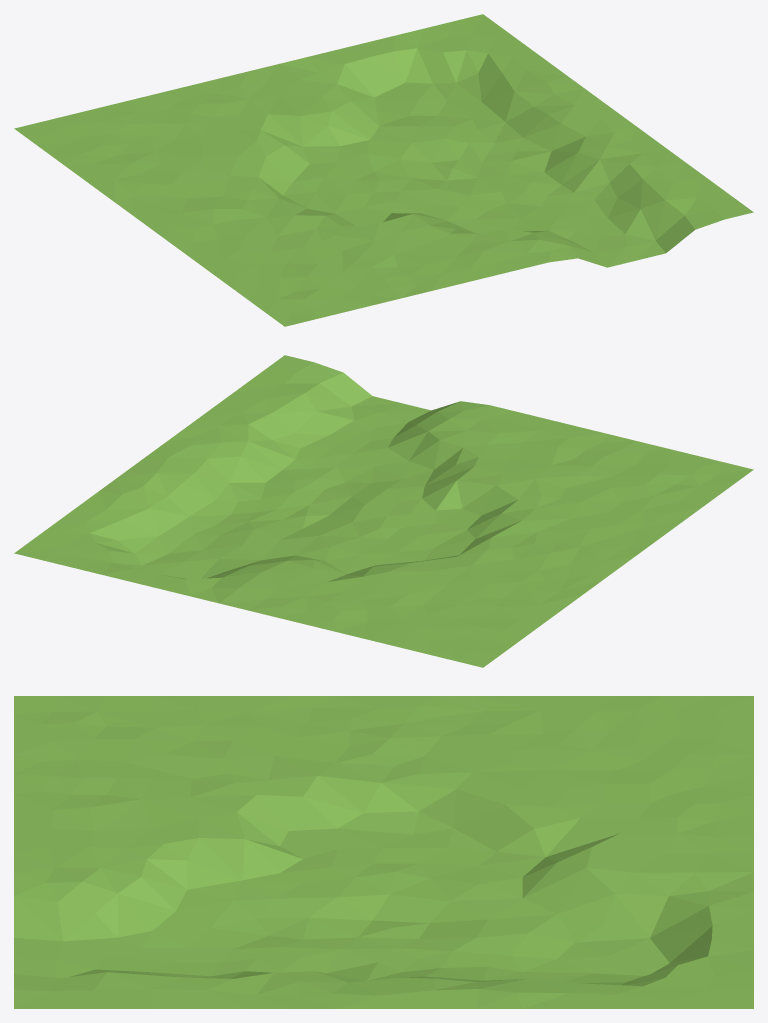
The model's file is MT_River_End_M_a_02_R_LOD.fbx.
3 views of the same model, one above another, from view 1: azimuth 30°, elevation 25°; view 2: azimuth 150°, elevation 25°; view 3: azimuth 270°, elevation 25° (orthographic). The views are drawn at different scales.
Parts seen in each view (by area): view 1: MT_River_End_M_a_02_R_LOD0; view 2: MT_River_End_M_a_02_R_LOD0; view 3: MT_River_End_M_a_02_R_LOD0.
Part boxes in pixels (bbox=[...]): MT_River_End_M_a_02_R_LOD0: bbox=[14, 14, 753, 326]; MT_River_End_M_a_02_R_LOD0: bbox=[14, 355, 753, 667]; MT_River_End_M_a_02_R_LOD0: bbox=[14, 696, 753, 1008].
Size of what is drawn, in the model's own units: 50 by 2.32 by 50.
